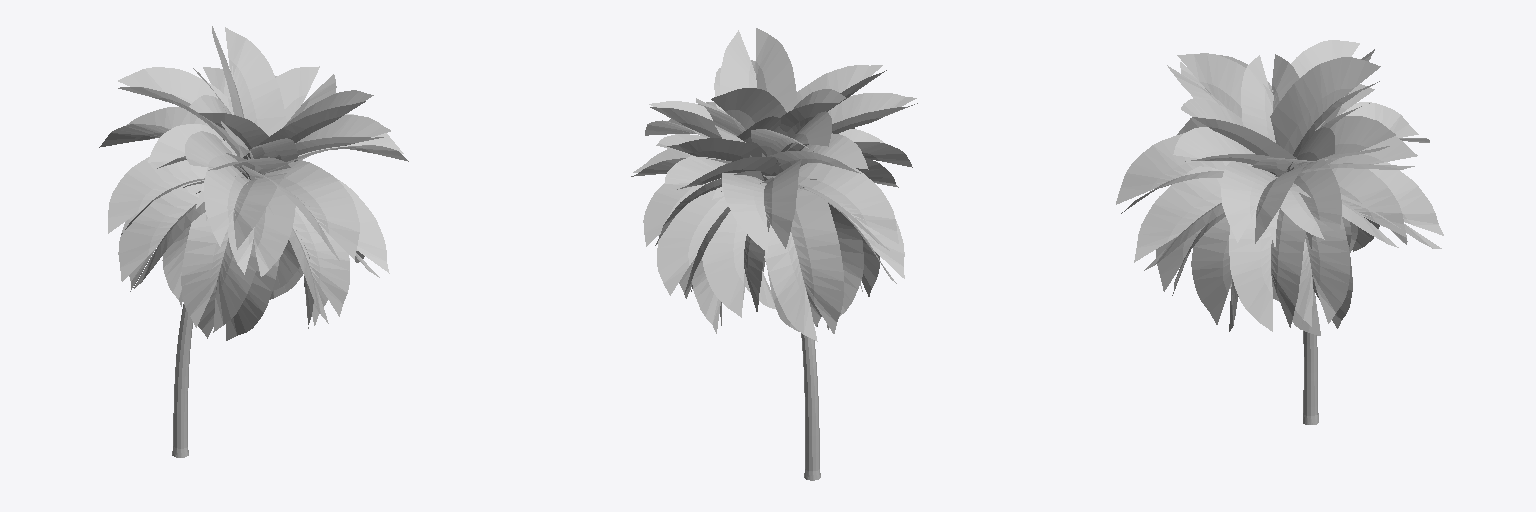
File: CurvedPalmTree.obj
The picture shows the model from 3 angles: view 1: azimuth 30°, elevation 25°; view 2: azimuth 150°, elevation 25°; view 3: azimuth 270°, elevation 25°; orthographic projection.
Visible parts, largest first — view 1: Tree_date_palm_leaf.002, Tree_palm01.006; view 2: Tree_date_palm_leaf.002, Tree_palm01.006; view 3: Tree_date_palm_leaf.002, Tree_palm01.006.
Boxes of the visible parts, x1=… form: Tree_date_palm_leaf.002: x1=99, y1=26, x2=408, y2=340; Tree_palm01.006: x1=172, y1=178, x2=250, y2=457; Tree_date_palm_leaf.002: x1=631, y1=28, x2=917, y2=341; Tree_palm01.006: x1=801, y1=333, x2=820, y2=480; Tree_date_palm_leaf.002: x1=1116, y1=40, x2=1443, y2=335; Tree_palm01.006: x1=1303, y1=292, x2=1318, y2=424.
Size of the model in its own units: 349 by 481 by 367.